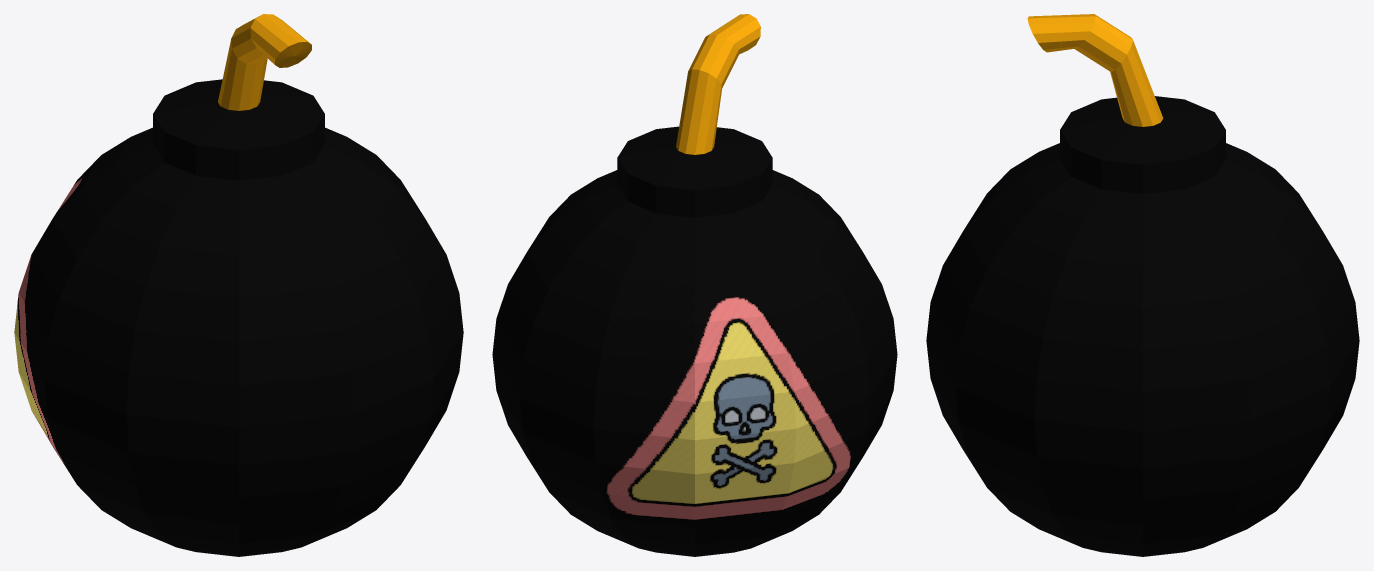
The model's file is bomb.fbx.
3 renders of one model, left to right at view 1: azimuth 30°, elevation 25°; view 2: azimuth 150°, elevation 25°; view 3: azimuth 270°, elevation 25°, orthographic. The views are drawn at different scales.
Visible parts, largest first — view 1: Sphere; view 2: Sphere; view 3: Sphere.
Boxes of the visible parts, bbox=[...] form: Sphere: bbox=[14, 14, 463, 556]; Sphere: bbox=[492, 14, 897, 556]; Sphere: bbox=[926, 14, 1359, 556].
Size of the model in its own units: 200 by 265 by 200.
Materials: 2 (1 with a texture image).
